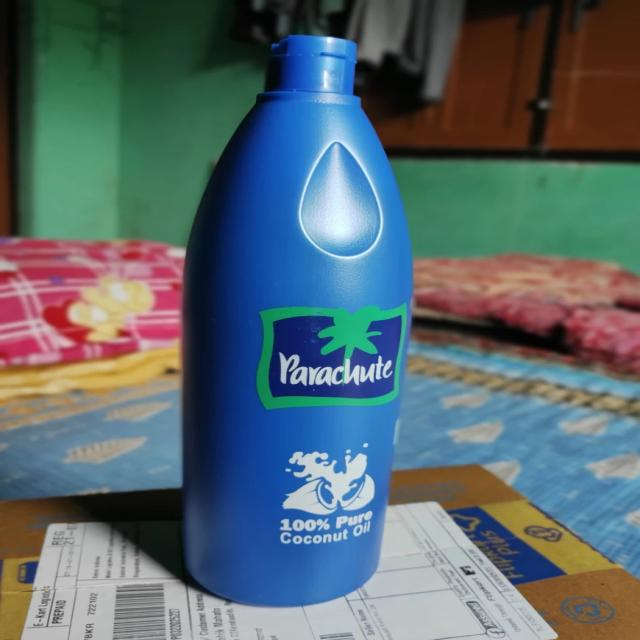parachute_oil: (162, 27, 408, 613)
